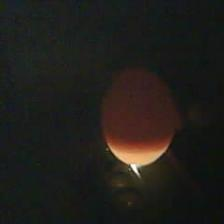fertile: (97, 60, 180, 170)
